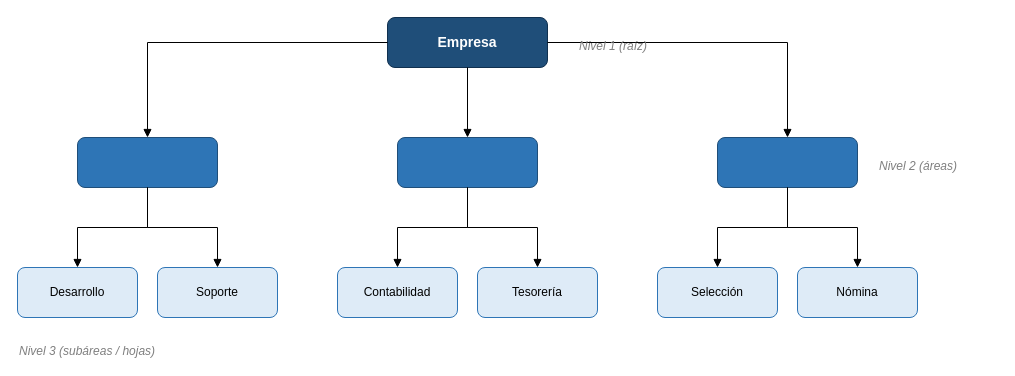
The diagram is 1015 pixels wide and 376 high, and some of its shapes have lost their labels. The centre of each missing label's shape, as x and y in pixels:
"Finanzas" belongs at pixel 467 162.
"Talento Humano" belongs at pixel 787 162.
"Tecnología" belongs at pixel 147 162.
